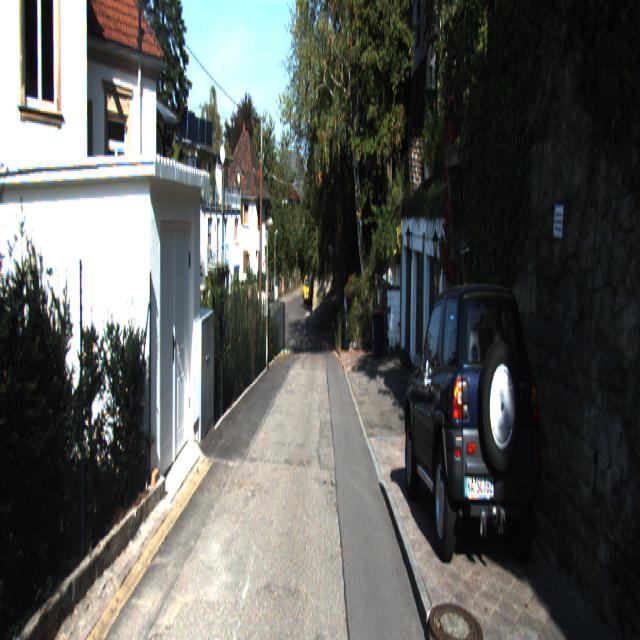Car: (404, 273, 550, 585)
